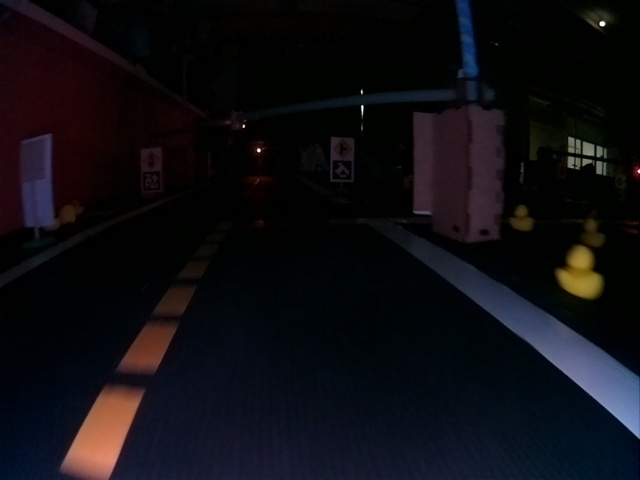Duckie: (556, 246, 600, 299), (510, 205, 534, 231), (584, 218, 603, 242), (60, 205, 76, 222)
Intersection sign: (331, 137, 354, 159)
QR code: (331, 161, 353, 181), (141, 171, 161, 191)
Signal sign: (142, 149, 162, 169)
